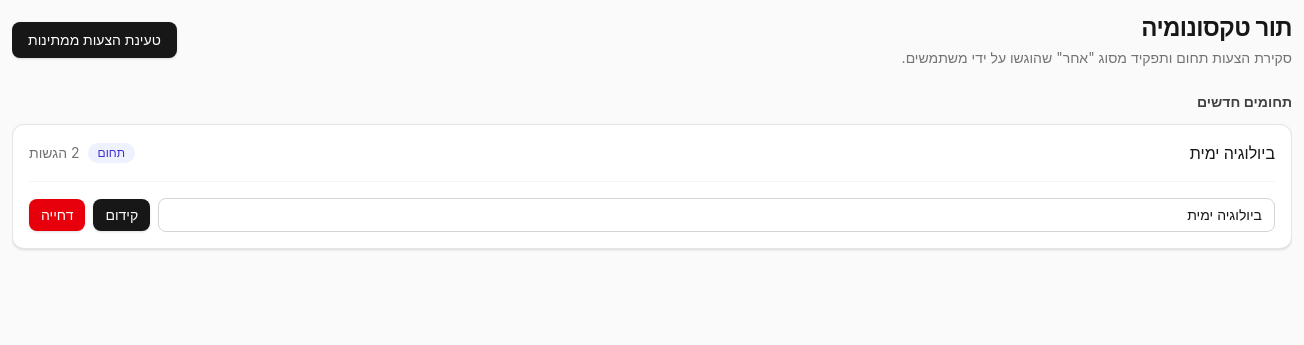
Test case: TaxonomyQueueView - unhappy path / edge cases › shows an action error and keeps the row when a decision fails
What coordinates should you click on to do the following:
click the button "קידום"
I would click on:
 (122, 215)
Its box is [93,199,150,231].
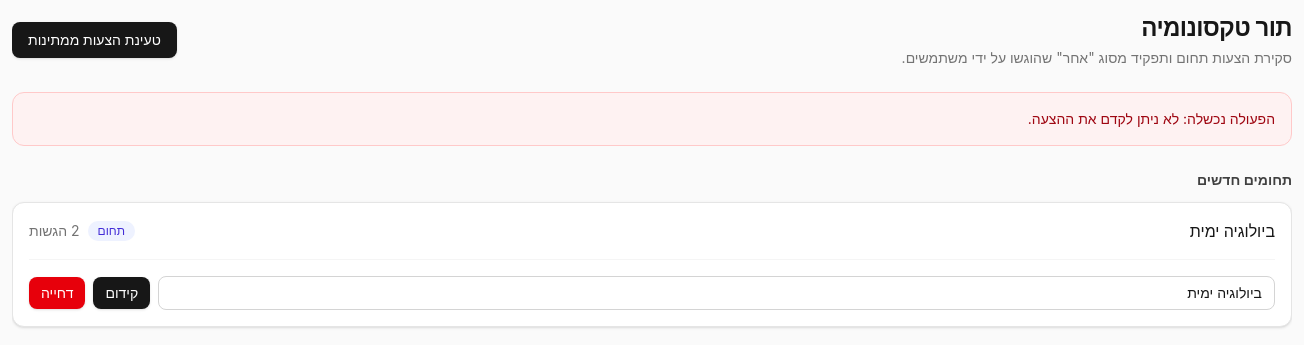
Expected: the number of list items is 1, [12,202,1292,327]
Expected: the text "הפעולה נכשלה" is shown, [1028,110,1275,127]
Expected: the text "לקדם" is shown, [1028,110,1275,127]
